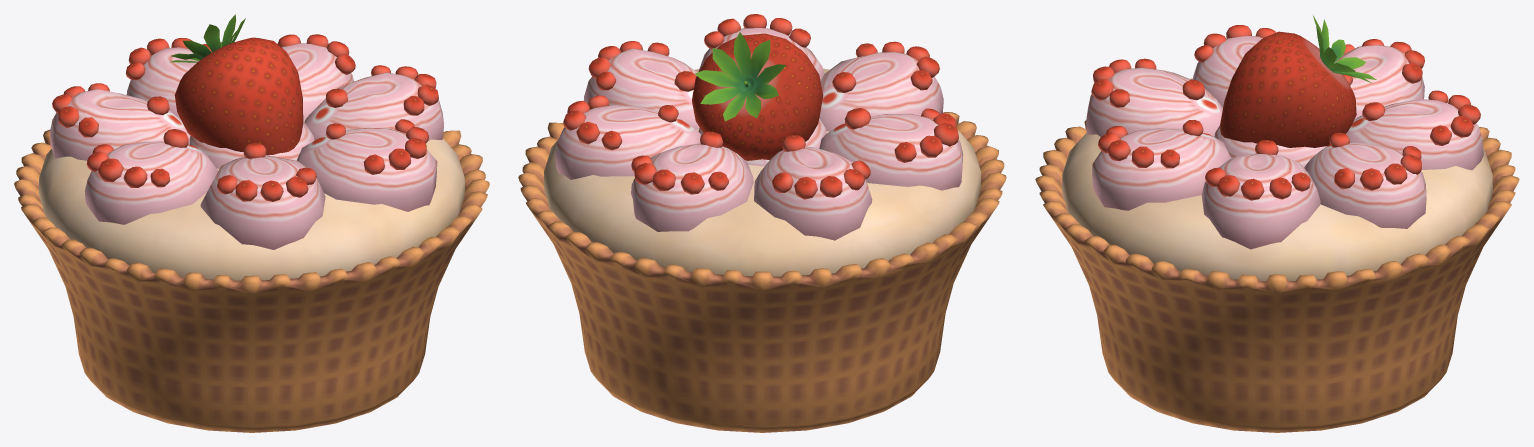
File: dessert_berry.fbx
The picture shows the model from 3 angles, left to right: view 1: azimuth 30°, elevation 25°; view 2: azimuth 150°, elevation 25°; view 3: azimuth 270°, elevation 25°; orthographic projection. The views are drawn at different scales.
Parts seen in each view (by area): view 1: dessert_berry_wafer; view 2: dessert_berry_wafer; view 3: dessert_berry_wafer.
Boxes of the visible parts, x1,y1,x2,y2 form: dessert_berry_wafer: (14, 14, 489, 432); dessert_berry_wafer: (518, 14, 1006, 432); dessert_berry_wafer: (1035, 15, 1519, 432).
Bounding box in the file's own units: 14.4 × 11.03 × 14.36.
